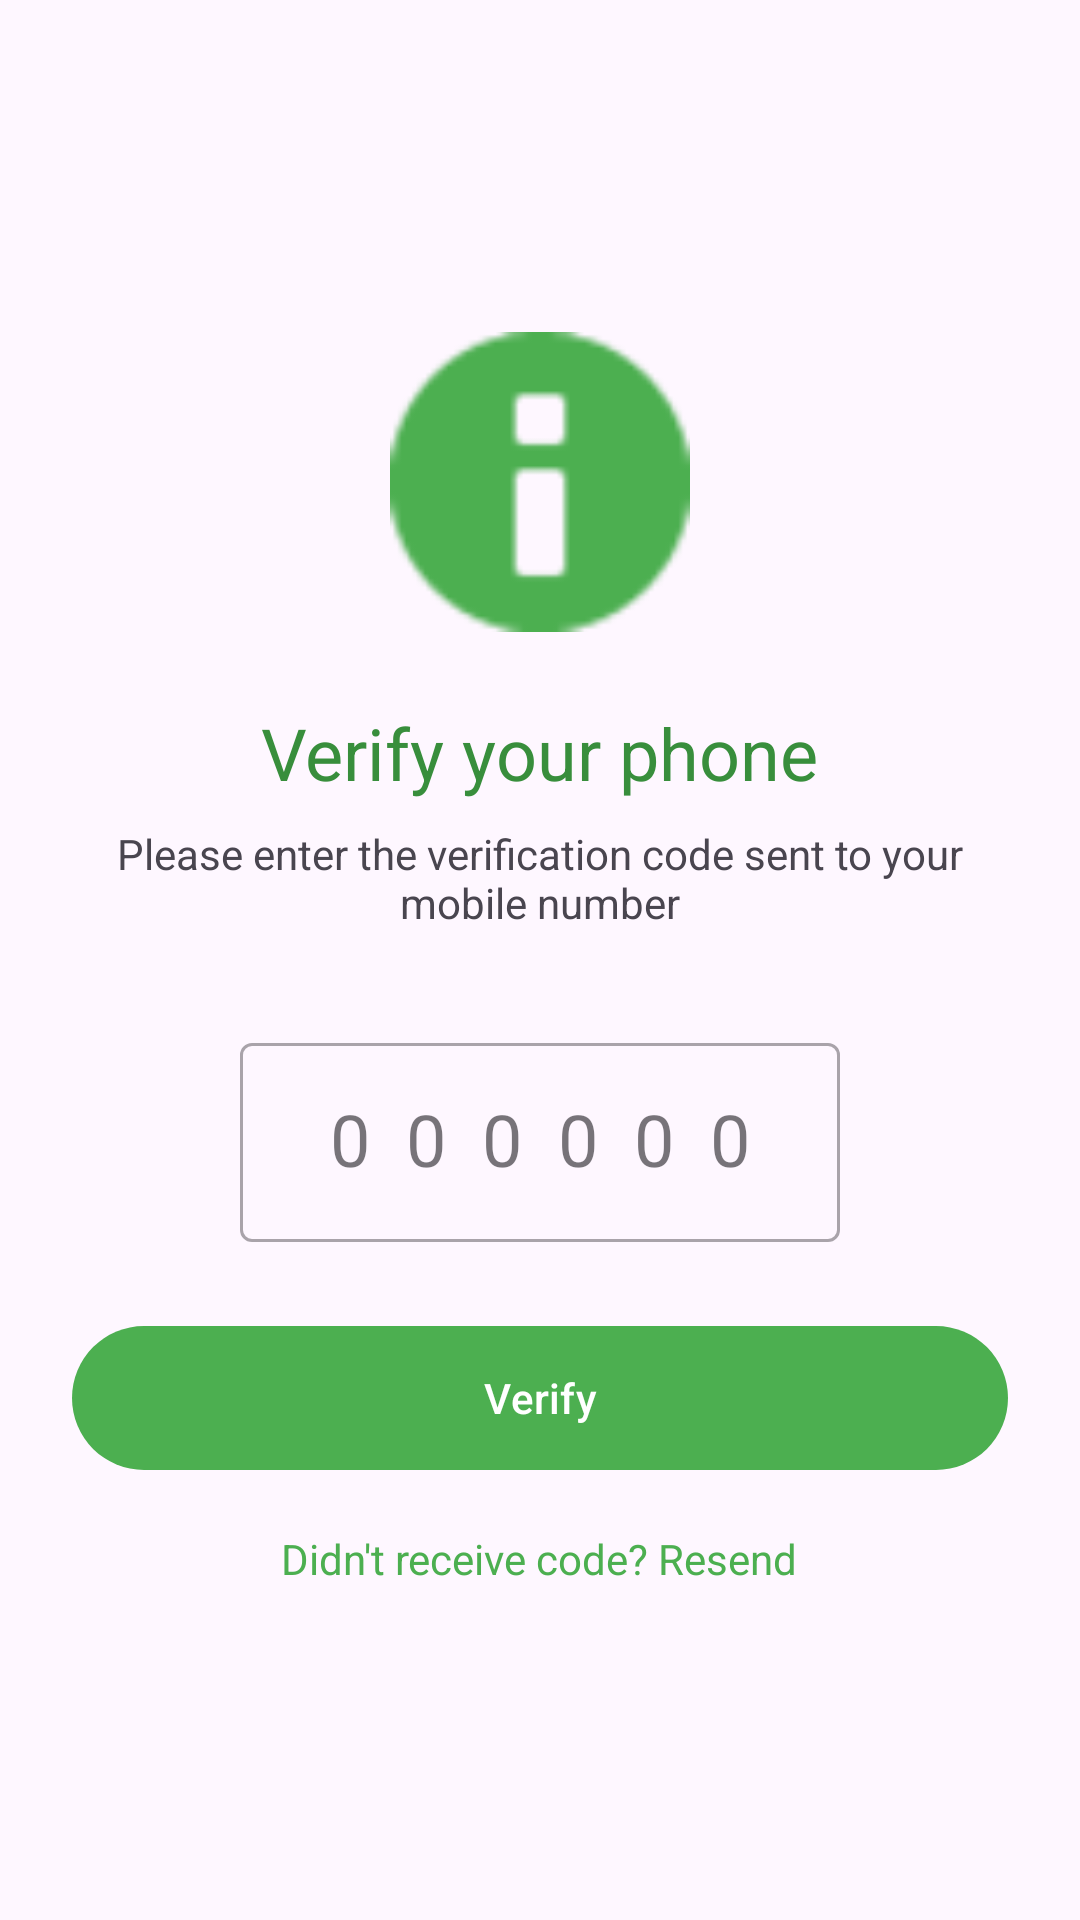

Point at icon controls on the screen. Image size 1080×1920, points as point (x, y).
info: point (540, 482)
